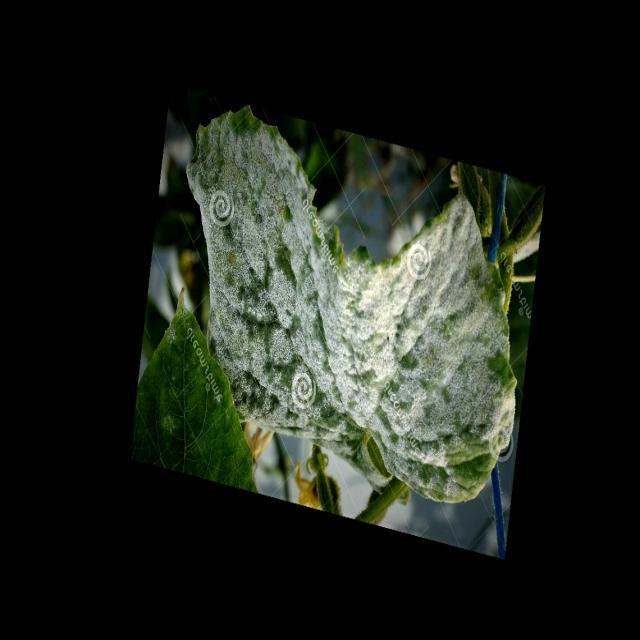Leaf_Mold: (331, 182, 512, 528), (187, 106, 362, 458)
